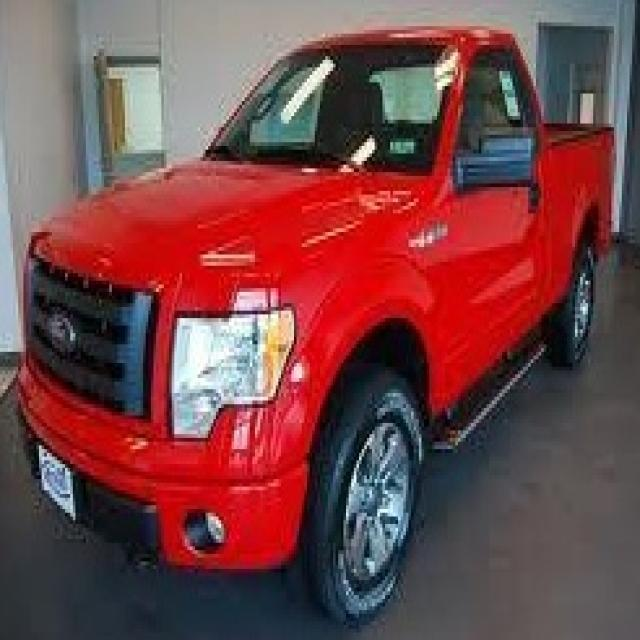CMT: (35, 15, 631, 612)
